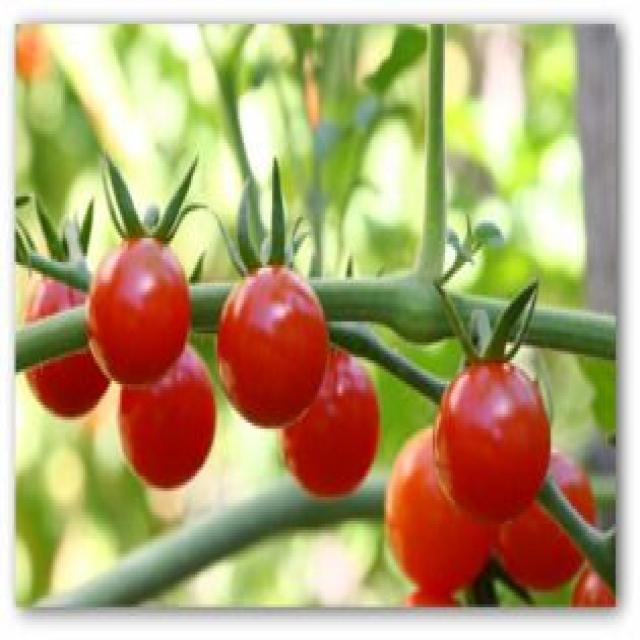level 6: (433, 358, 552, 526), (216, 260, 331, 428), (384, 422, 501, 584), (88, 234, 191, 388), (116, 340, 216, 493), (278, 353, 383, 495), (493, 449, 594, 589), (22, 266, 115, 414), (568, 551, 616, 605), (387, 588, 475, 607)
